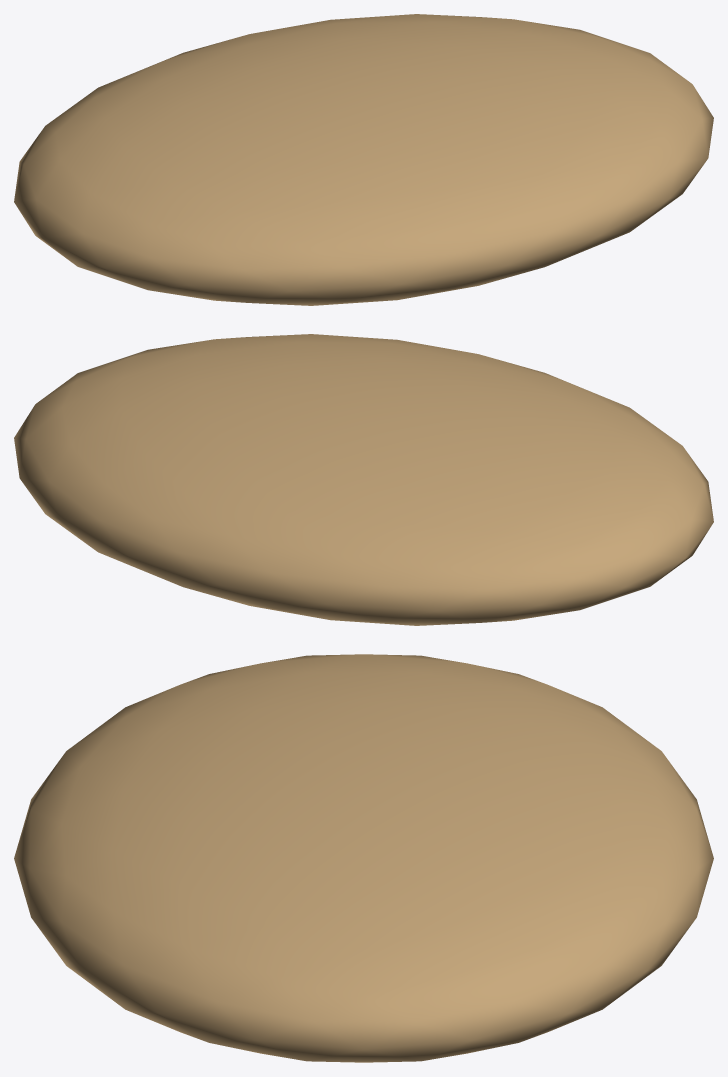
The model's file is SM_Env_ShoreSand.fbx.
The picture shows the model from 3 angles, top to bottom: view 1: azimuth 30°, elevation 25°; view 2: azimuth 150°, elevation 25°; view 3: azimuth 270°, elevation 25°; orthographic projection. The views are drawn at different scales.
Parts seen in each view (by area): view 1: Terrain_piece.001; view 2: Terrain_piece.001; view 3: Terrain_piece.001.
Boxes of the visible parts, x1,y1,x2,y2 form: Terrain_piece.001: (14, 14, 713, 305); Terrain_piece.001: (14, 334, 713, 625); Terrain_piece.001: (14, 654, 713, 1062).
Size of what is drawn, in the model's own units: 310 by 240 by 60.
